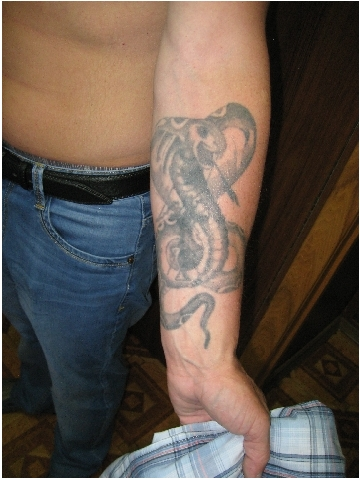tatu7_zmeya: (144, 103, 256, 354)
